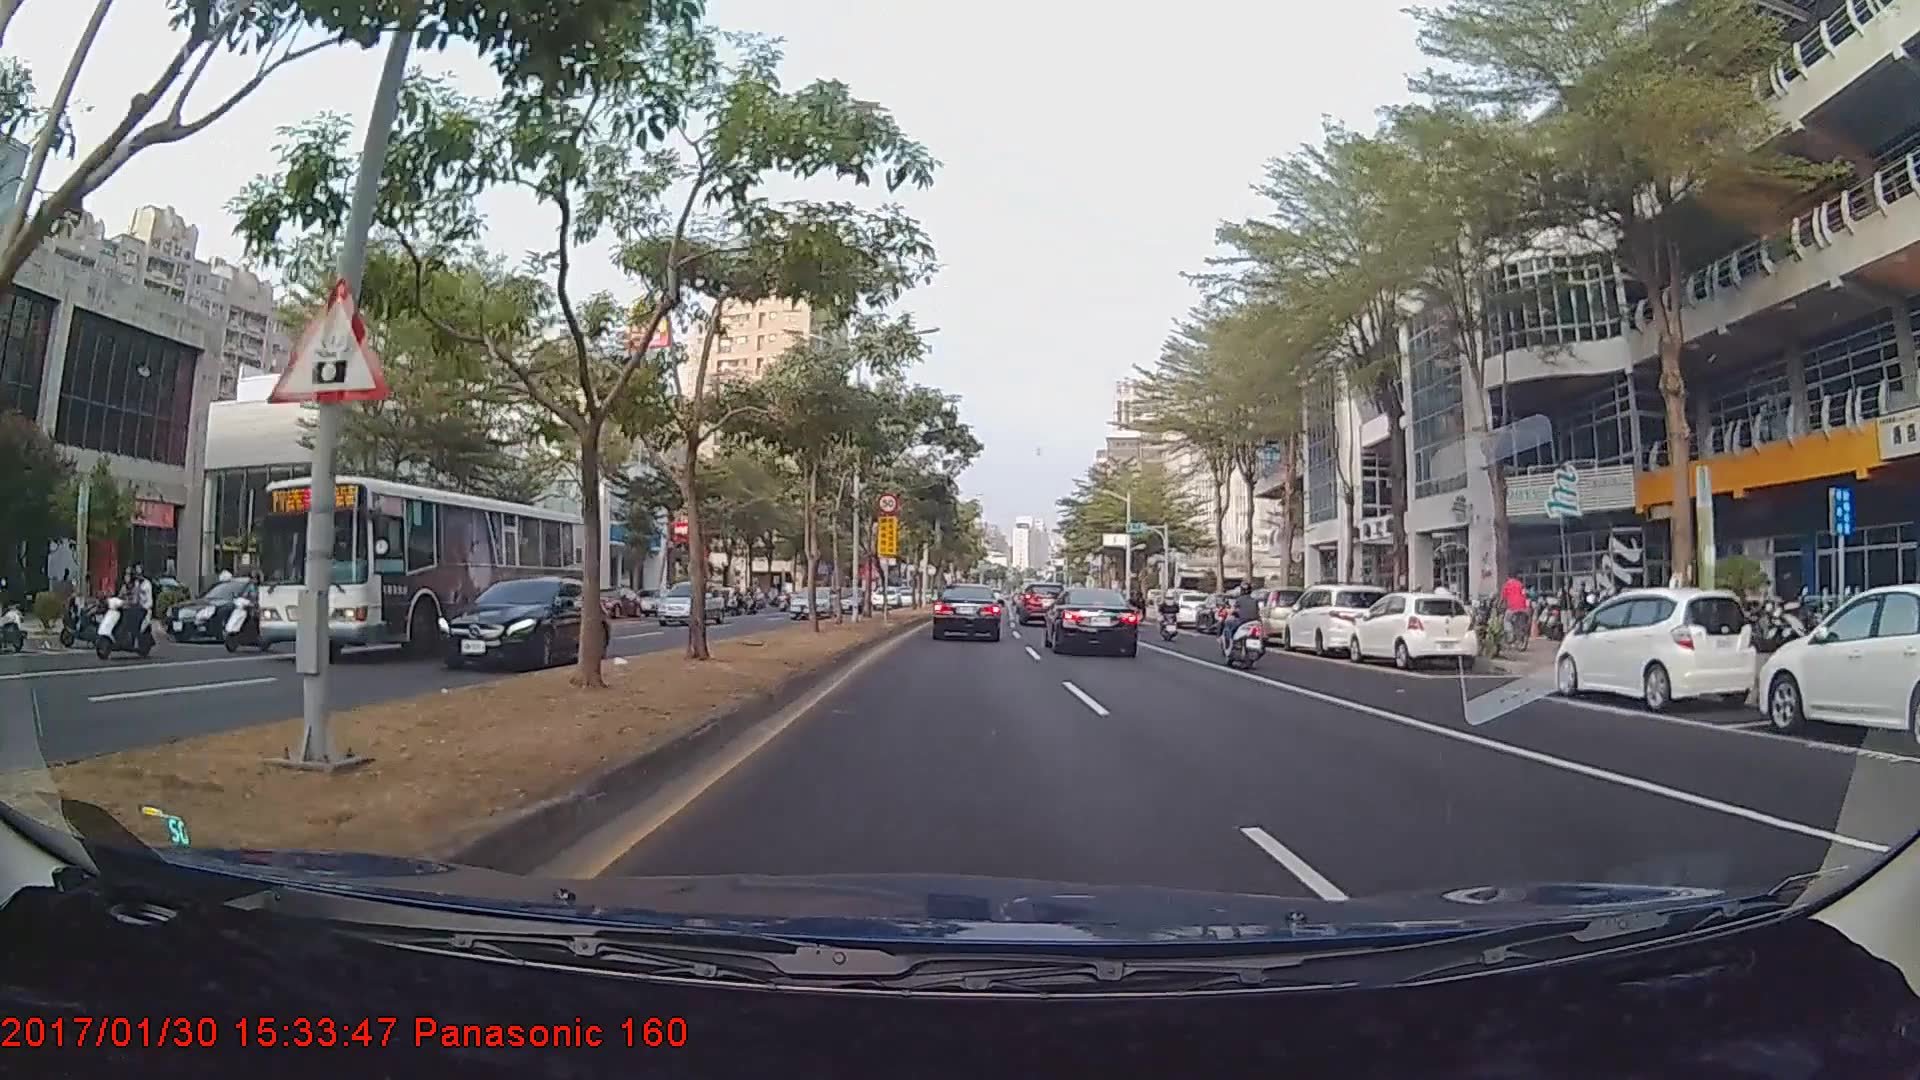rider: (93, 564, 162, 657), (1217, 582, 1283, 669), (1491, 570, 1538, 655), (1219, 587, 1271, 660), (1158, 586, 1187, 643)
vehicle: (246, 468, 585, 661), (1755, 583, 1920, 750), (1557, 585, 1748, 709), (437, 571, 615, 670), (1348, 590, 1476, 669), (162, 577, 310, 645), (1284, 582, 1391, 656), (1045, 585, 1140, 657), (1239, 585, 1320, 643), (932, 583, 1004, 641), (656, 580, 723, 624), (1018, 581, 1067, 626), (788, 583, 839, 618)
